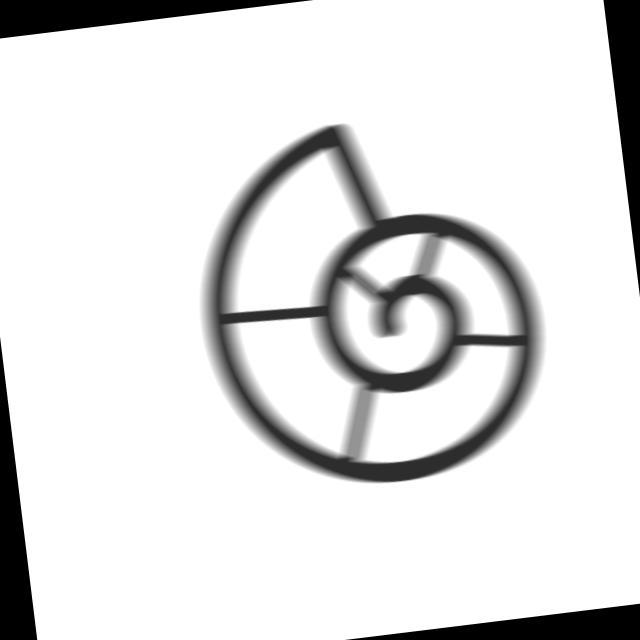fossil: (172, 94, 570, 512)
